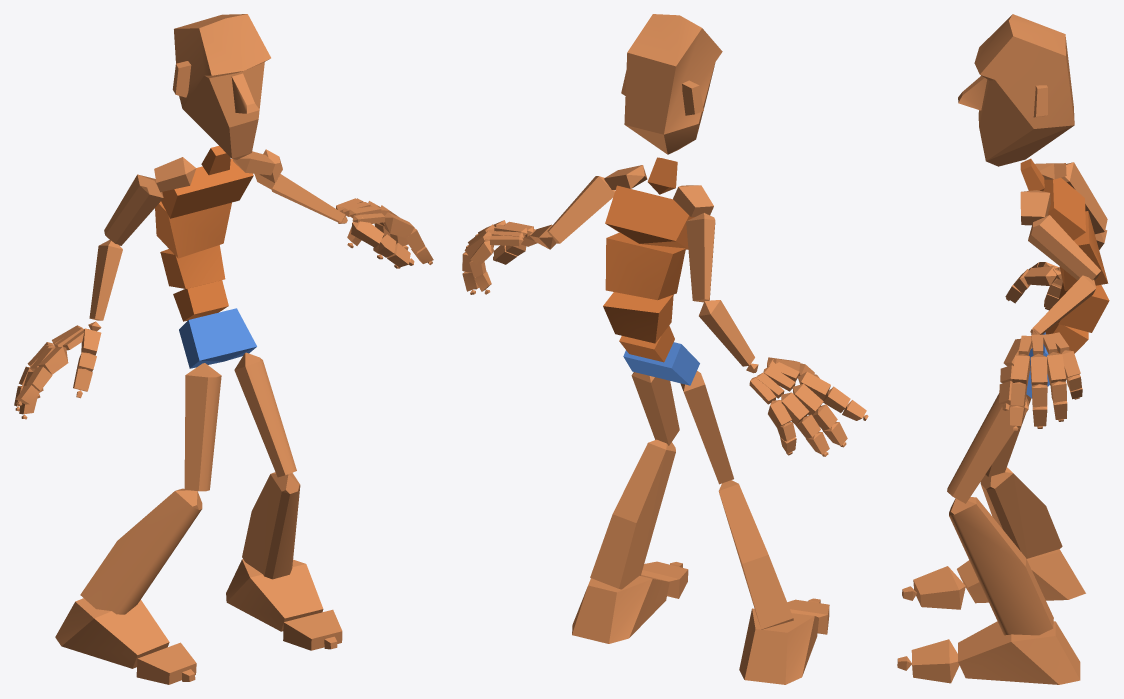
The model's file is prueba156.obj.
3 views of the same model, side by side, from view 1: azimuth 30°, elevation 25°; view 2: azimuth 150°, elevation 25°; view 3: azimuth 270°, elevation 25° (orthographic). The views are drawn at different scales.
Visible parts, largest first — view 1: BOPED_Head, BOPED_R_leg, BOPED_R_foot, BOPED_L_leg, BOPED_R_foot01, BOPED_R_legup, BOPED_L_legup, Bone01, Bone04, Bone05, BOPED_R_arm_upper, Bone03 (+7 smaller); view 2: BOPED_Head, BOPED_L_leg, BOPED_R_foot01, BOPED_R_leg, BOPED_R_foot, Bone04, Bone05, Bone03, BOPED_R_legup, BOPED_L_legup, BOPED_R_arm_upper, BOPED_L_arm_upper (+8 smaller); view 3: BOPED_Head, BOPED_L_leg, BOPED_R_foot01, BOPED_R_leg, BOPED_L_legup, BOPED_R_foot, BOPED_L_arm_upper, Bone05, BOPED_R_foot_toe01, BOPED_R_foot_toe04, BOPED_L_arm_fore, Bone03 (+14 smaller).
Boxes of the visible parts, x1=… form: BOPED_Head: x1=172, y1=14, x2=270, y2=159; BOPED_R_leg: x1=80, y1=488, x2=202, y2=614; BOPED_R_foot: x1=55, y1=598, x2=169, y2=668; BOPED_L_leg: x1=242, y1=472, x2=300, y2=579; BOPED_R_foot01: x1=226, y1=559, x2=323, y2=631; BOPED_R_legup: x1=184, y1=363, x2=221, y2=491; BOPED_L_legup: x1=234, y1=352, x2=296, y2=477; Bone01: x1=179, y1=308, x2=256, y2=368; Bone04: x1=155, y1=201, x2=231, y2=258; Bone05: x1=161, y1=158, x2=253, y2=218; BOPED_R_arm_upper: x1=104, y1=174, x2=163, y2=245; Bone03: x1=160, y1=245, x2=225, y2=288; BOPED_Head: x1=621, y1=14, x2=722, y2=154; BOPED_L_leg: x1=590, y1=439, x2=675, y2=589; BOPED_R_foot01: x1=572, y1=575, x2=669, y2=643; BOPED_R_leg: x1=718, y1=480, x2=793, y2=629; BOPED_R_foot: x1=739, y1=608, x2=818, y2=684; Bone04: x1=605, y1=233, x2=685, y2=300; Bone05: x1=605, y1=185, x2=694, y2=249; Bone03: x1=603, y1=292, x2=673, y2=343; BOPED_R_legup: x1=680, y1=371, x2=733, y2=484; BOPED_L_legup: x1=631, y1=372, x2=679, y2=445; BOPED_R_arm_upper: x1=686, y1=213, x2=715, y2=302; BOPED_L_arm_upper: x1=547, y1=176, x2=614, y2=243; BOPED_Head: x1=958, y1=14, x2=1074, y2=166; BOPED_L_leg: x1=949, y1=497, x2=1053, y2=635; BOPED_R_foot01: x1=958, y1=621, x2=1080, y2=684; BOPED_R_leg: x1=980, y1=467, x2=1062, y2=558; BOPED_L_legup: x1=947, y1=393, x2=1028, y2=503; BOPED_R_foot: x1=957, y1=549, x2=1085, y2=603; BOPED_L_arm_upper: x1=1028, y1=215, x2=1100, y2=280; Bone05: x1=1043, y1=177, x2=1085, y2=240; BOPED_R_foot_toe01: x1=913, y1=566, x2=965, y2=609; BOPED_R_foot_toe04: x1=911, y1=639, x2=959, y2=683; BOPED_L_arm_fore: x1=1030, y1=275, x2=1096, y2=334; Bone03: x1=1058, y1=282, x2=1109, y2=332.
Size of the model in its own units: 130 by 186 by 57.18.
